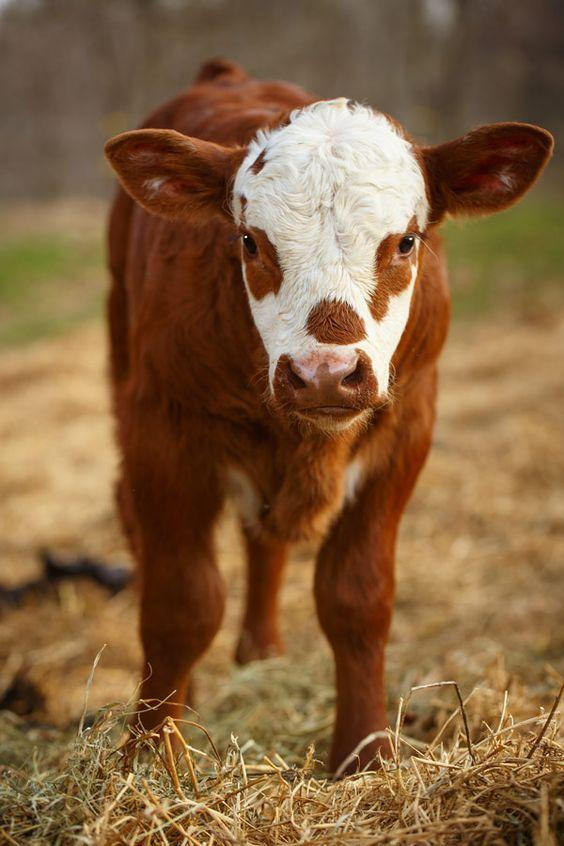cow: (50, 8, 525, 708)
